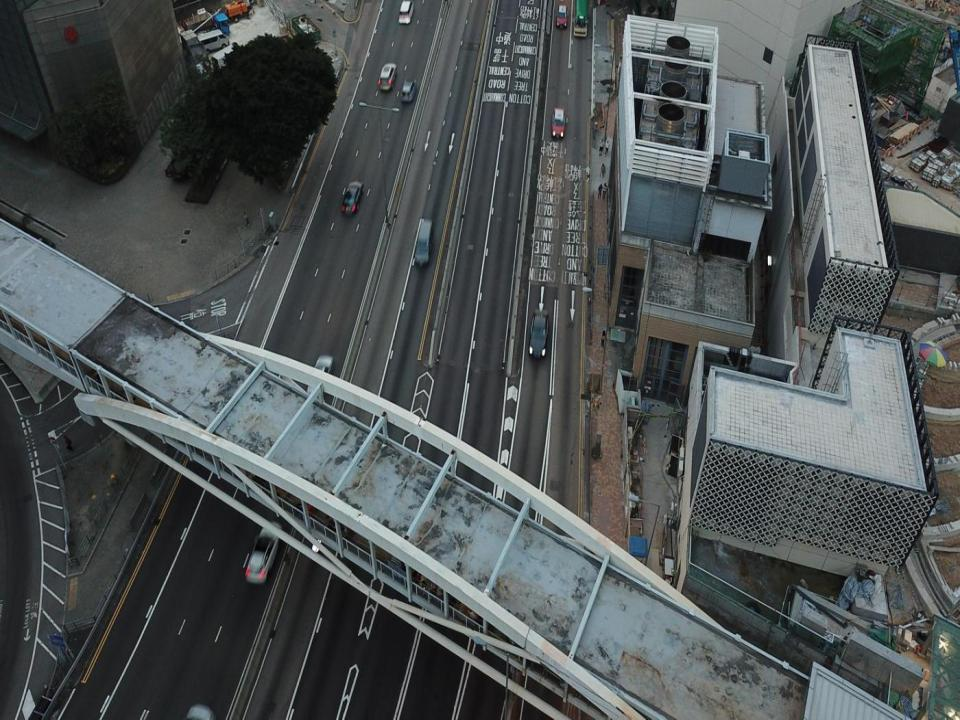bus: (569, 0, 588, 37)
car: (245, 521, 281, 581), (309, 354, 336, 406), (528, 307, 548, 360), (341, 180, 363, 216), (550, 105, 569, 137), (378, 64, 397, 92), (397, 0, 414, 25), (555, 1, 568, 30), (400, 80, 415, 100)
truck: (165, 94, 209, 183)
van: (413, 216, 433, 267), (193, 28, 230, 53), (209, 46, 244, 71)
